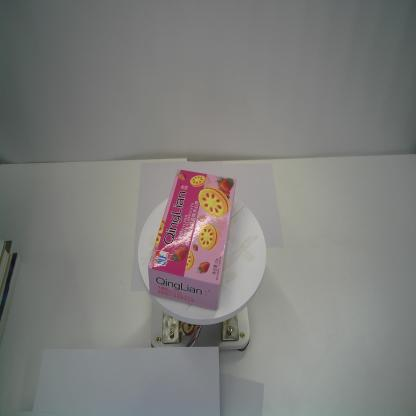Dessert: (146, 168, 238, 311)
